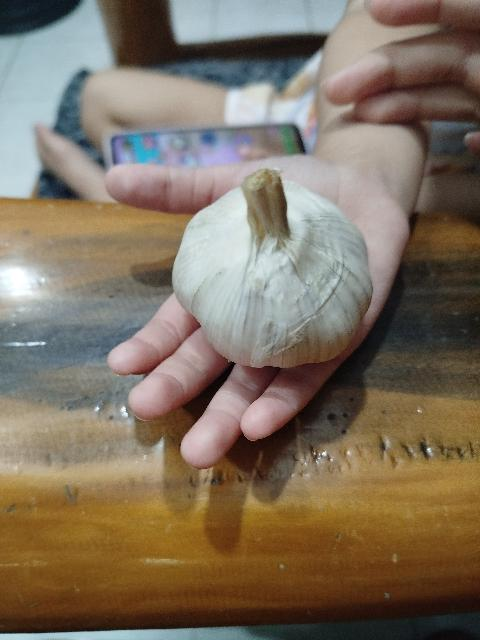garlic: (171, 168, 373, 368)
